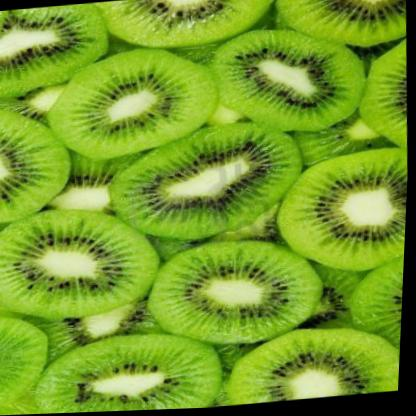--: (36, 28, 228, 167), (100, 113, 292, 252), (142, 231, 344, 363), (0, 194, 170, 332), (202, 15, 381, 146), (266, 145, 411, 280), (31, 320, 226, 415), (222, 321, 404, 408)
